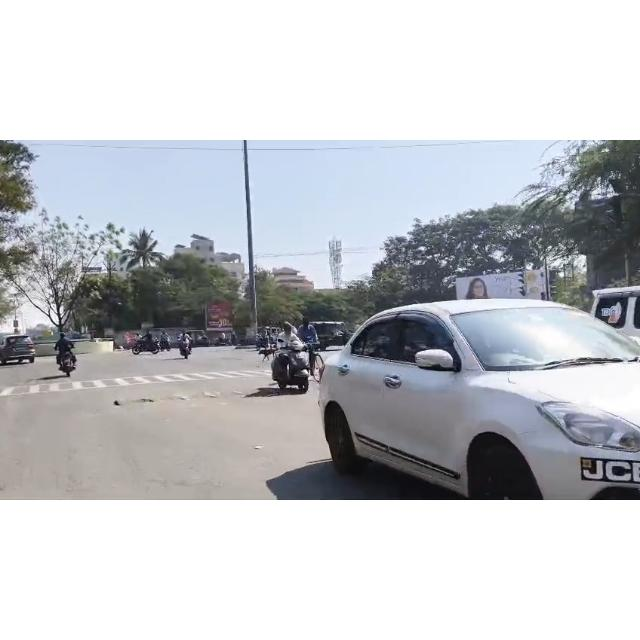auto: (312, 315, 354, 347), (183, 327, 215, 348)
car: (316, 295, 640, 501), (586, 279, 640, 352), (2, 331, 41, 365)
